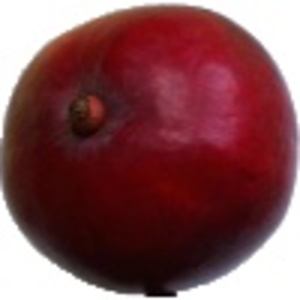manga: (1, 3, 300, 297)
